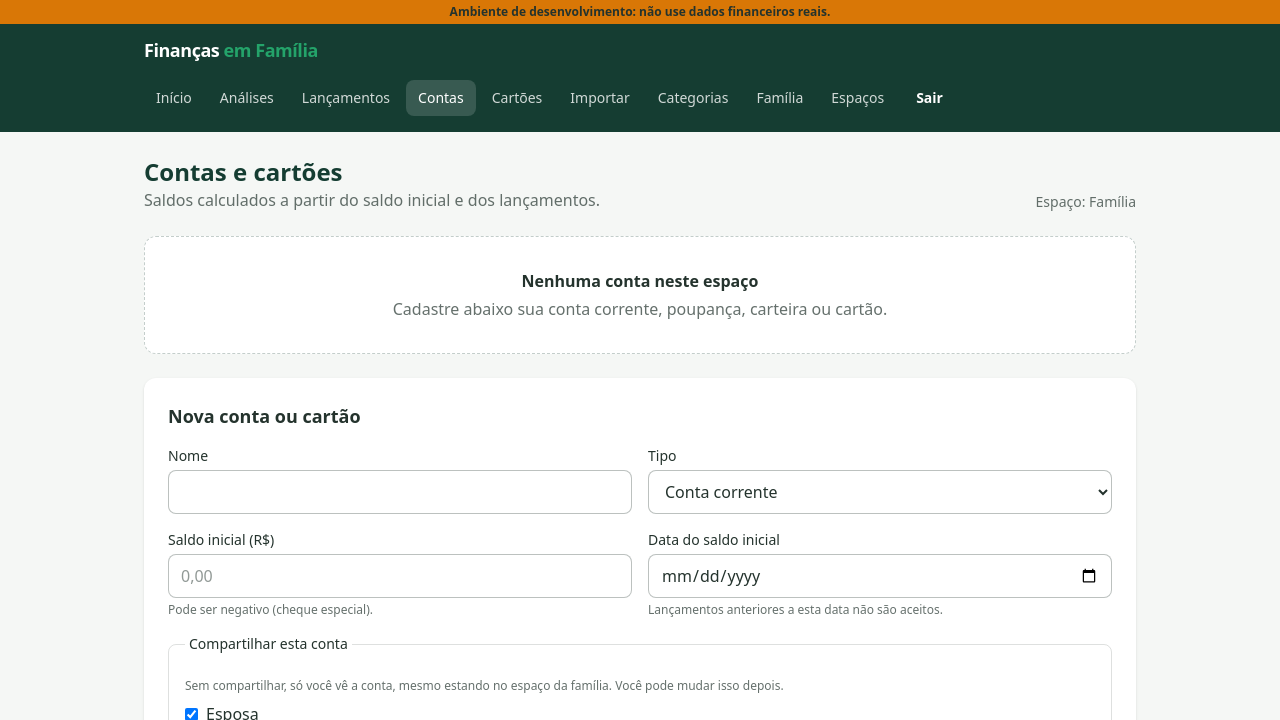
Test: Contas › exige dias de fechamento e vencimento para cartão
The image size is (1280, 720).
In the field labelled "Nome": (400, 492) x1=168 y1=470 x2=632 y2=514, type "Visa"
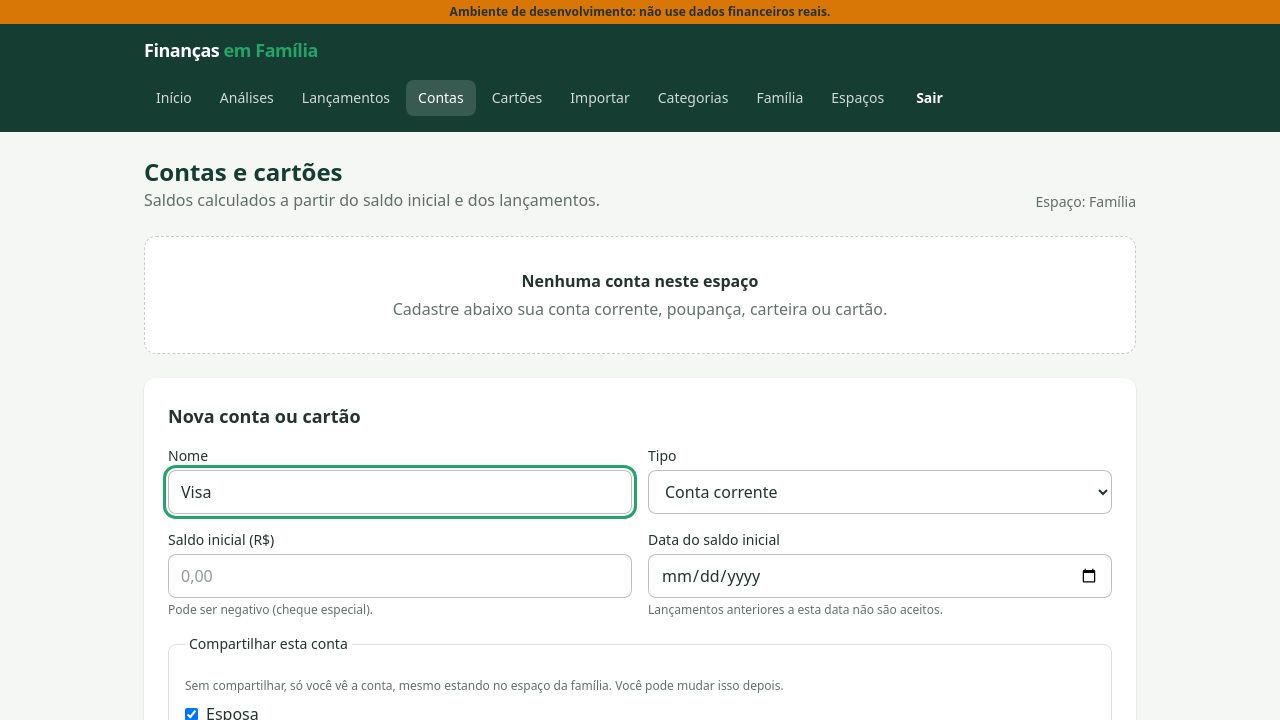
Select "Cartão de crédito" in the dropdown labelled "Tipo": (880, 492) x1=648 y1=470 x2=1112 y2=514
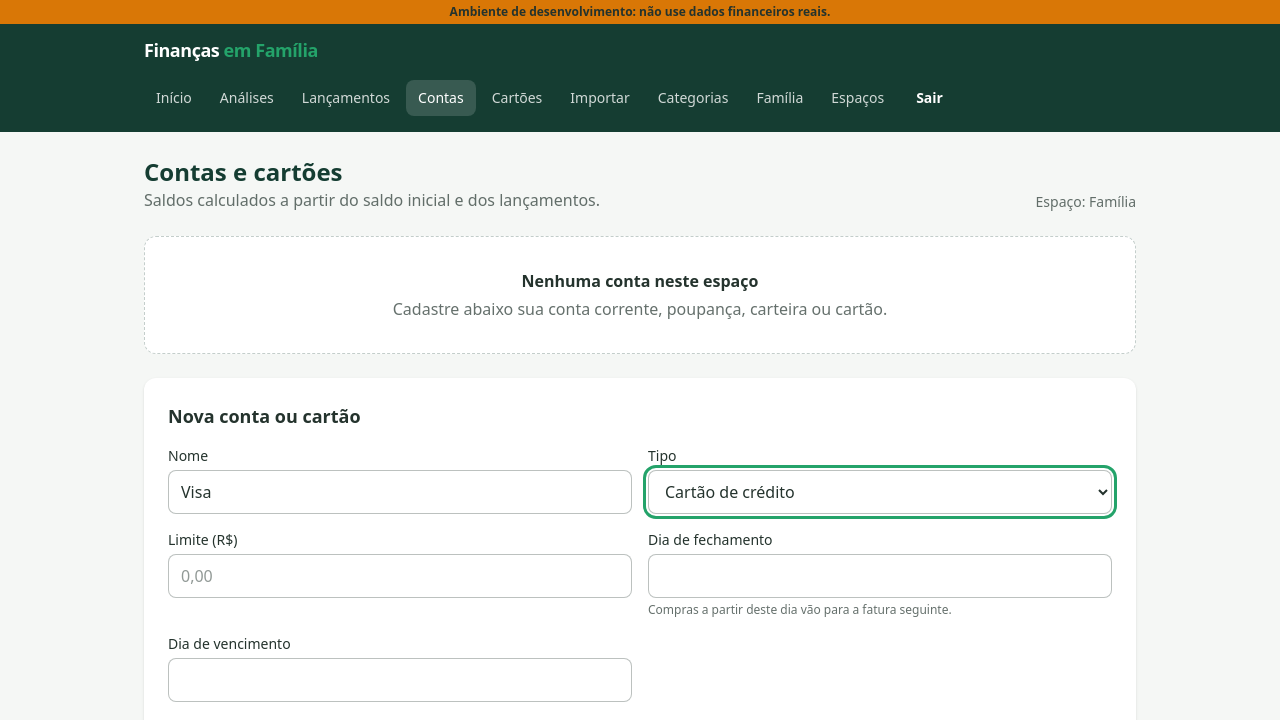
In the field labelled "Limite (R$)": (400, 576) x1=168 y1=554 x2=632 y2=598, type "5.000,00"
(page scrolled)
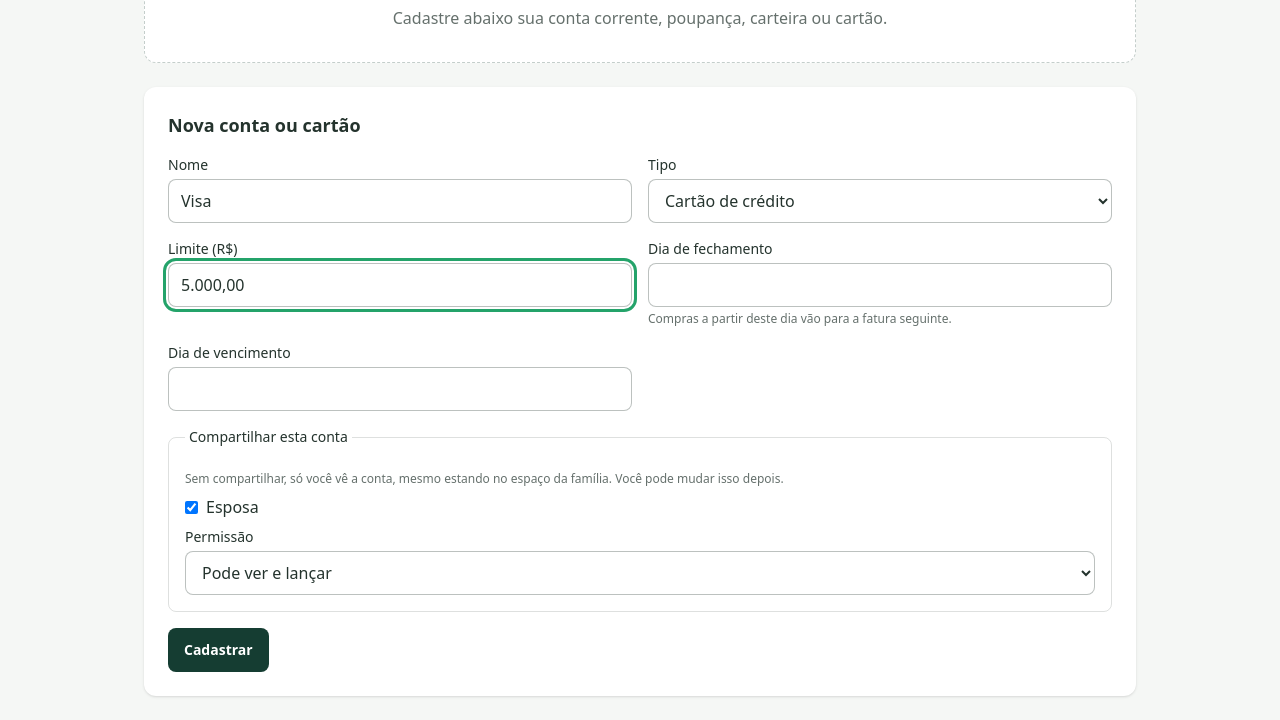
Click the button "Cadastrar": (218, 650) x1=168 y1=628 x2=269 y2=672
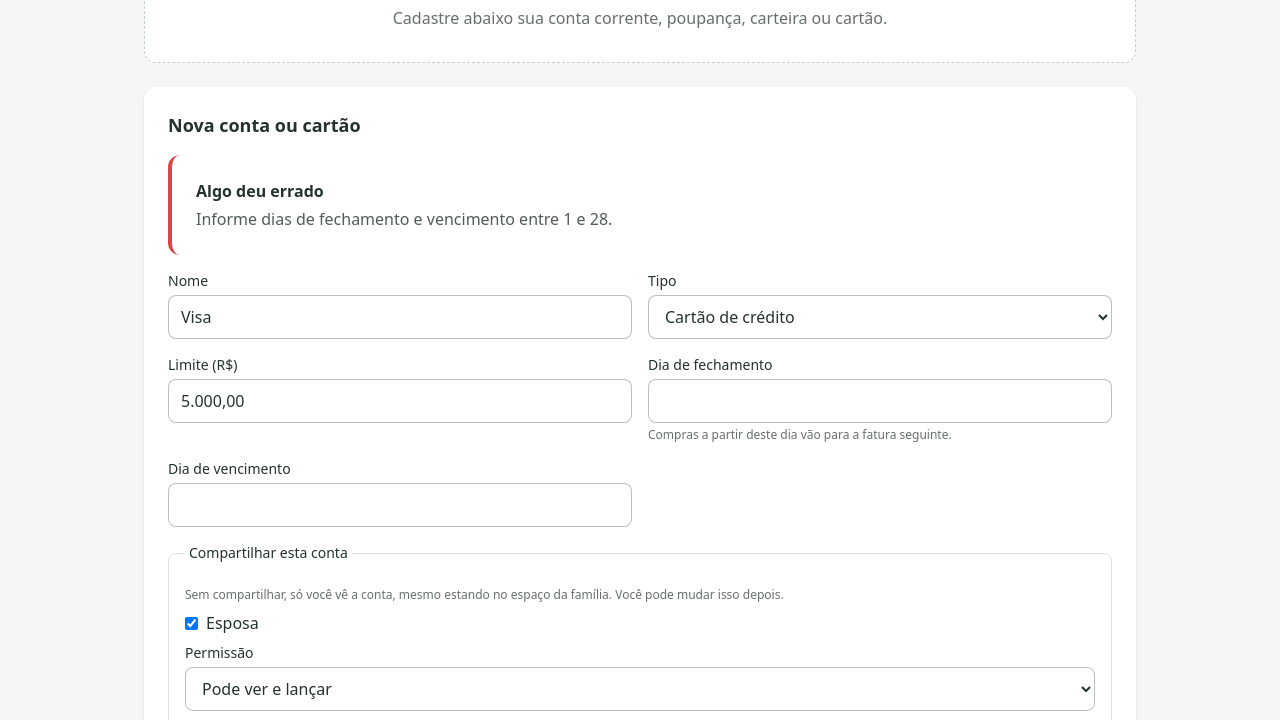
Now the message shows "Informe dias de fechamento e vencimento entre 1 e 28.", box x1=196 y1=208 x2=612 y2=230
